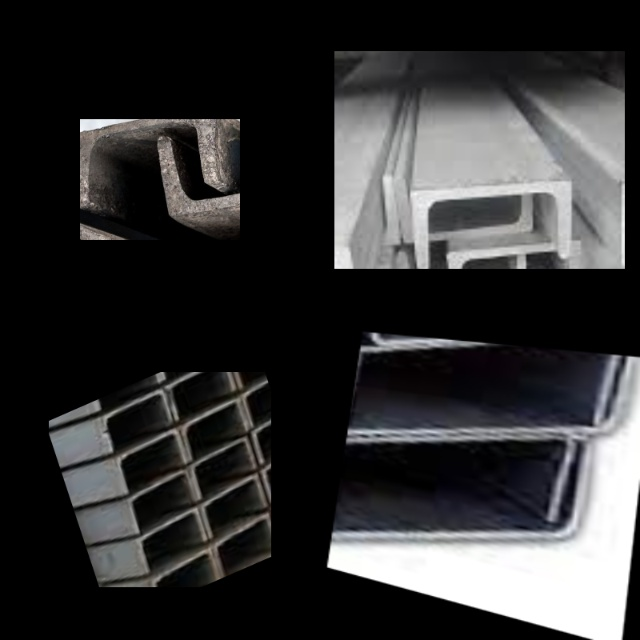Shveller: (331, 410, 593, 599), (348, 332, 640, 476), (333, 410, 569, 577), (347, 332, 615, 479), (415, 181, 569, 265), (80, 122, 217, 203), (361, 332, 634, 370), (157, 124, 240, 216), (402, 183, 527, 238), (115, 429, 189, 493), (197, 474, 269, 538), (134, 510, 207, 573), (126, 470, 197, 532), (101, 390, 174, 450), (188, 437, 258, 497), (180, 401, 248, 457), (212, 515, 271, 577), (165, 372, 237, 419), (452, 243, 580, 269), (148, 548, 219, 587), (240, 379, 271, 424), (405, 259, 524, 269), (249, 414, 271, 462), (258, 450, 271, 502)
